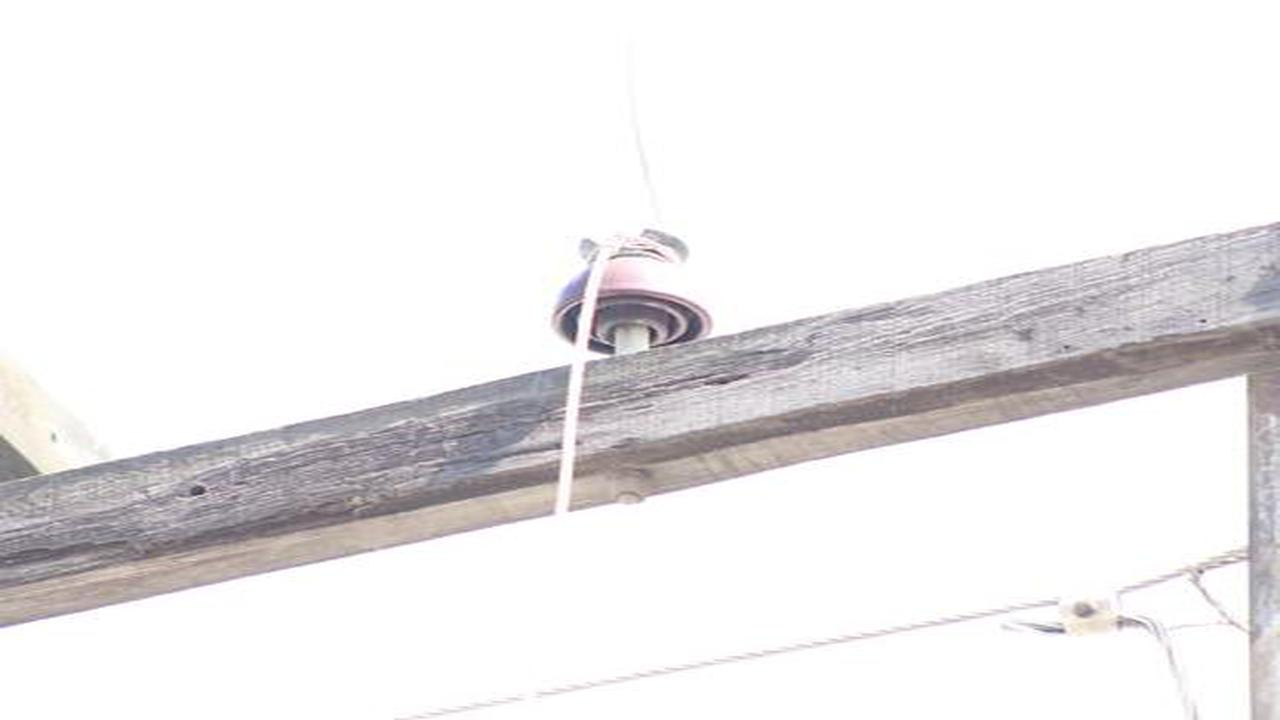insulator_pin: (544, 223, 719, 352)
